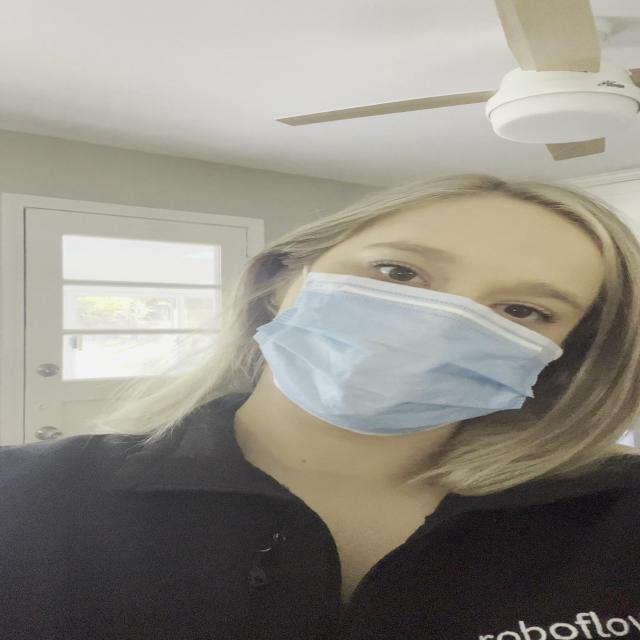no-helmet: (218, 197, 614, 448)
